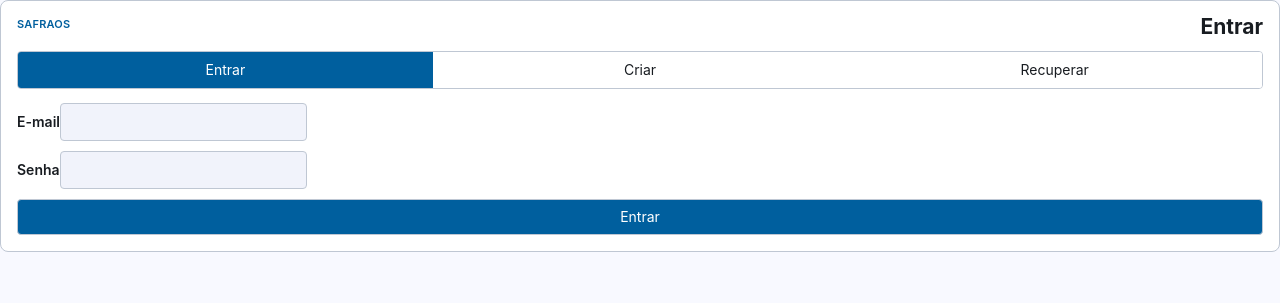
Test: AuthPanel (SPEC-002) › cadastro limpa senha apos resposta neutra
The image size is (1280, 303).
Click the button "Criar" at (640, 70), box [433,52,847,88]
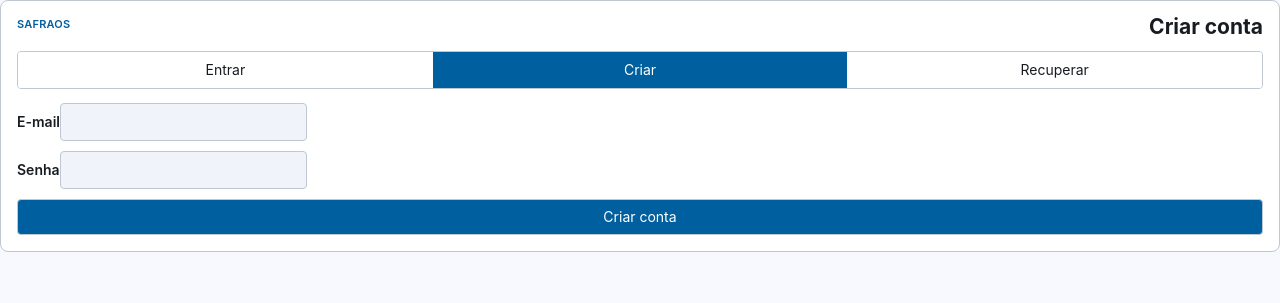
Type "dono@example.com" into the field labelled "E-mail" at (184, 122), box [60,103,307,141]
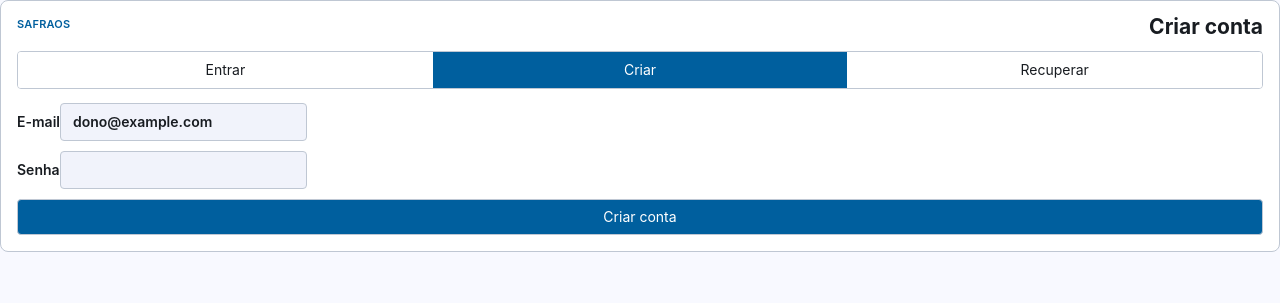
Type "senha-longa-segura" into the password field labelled "Senha" at (183, 170), box [60,151,307,189]
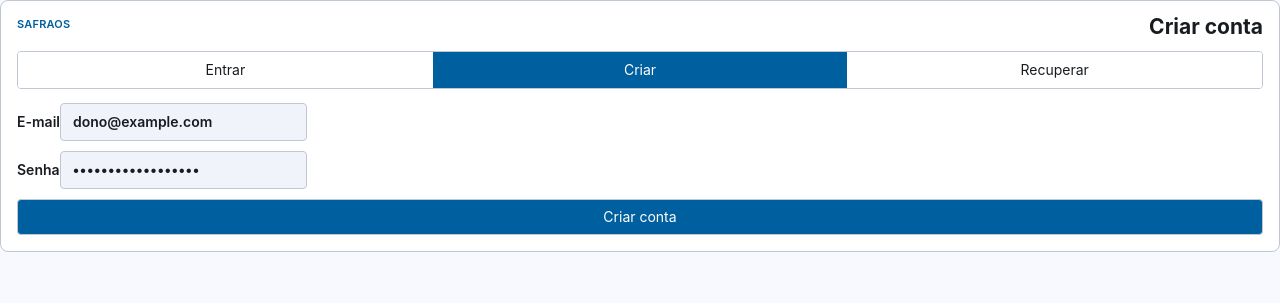
Click the button with aria-label "criar conta agora" at (640, 217), box [17,199,1263,235]
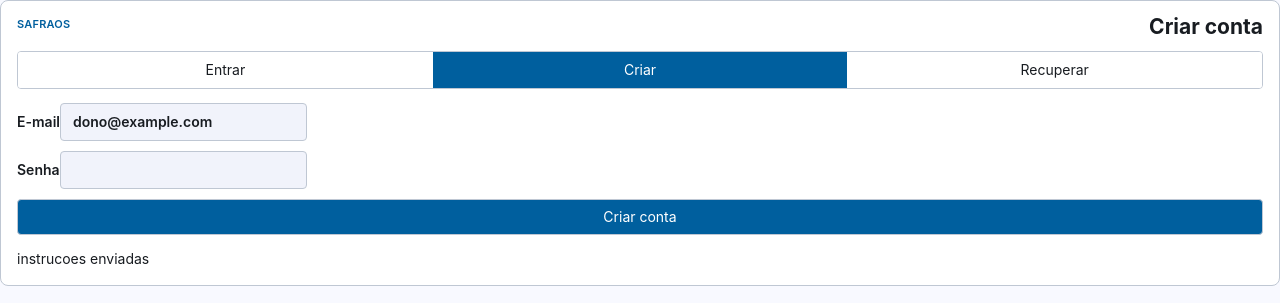
Expected: the text "instrucoes enviadas" is shown, [17,250,149,267]
Expected: the password field labelled "Senha" is empty, [60,151,307,189]
